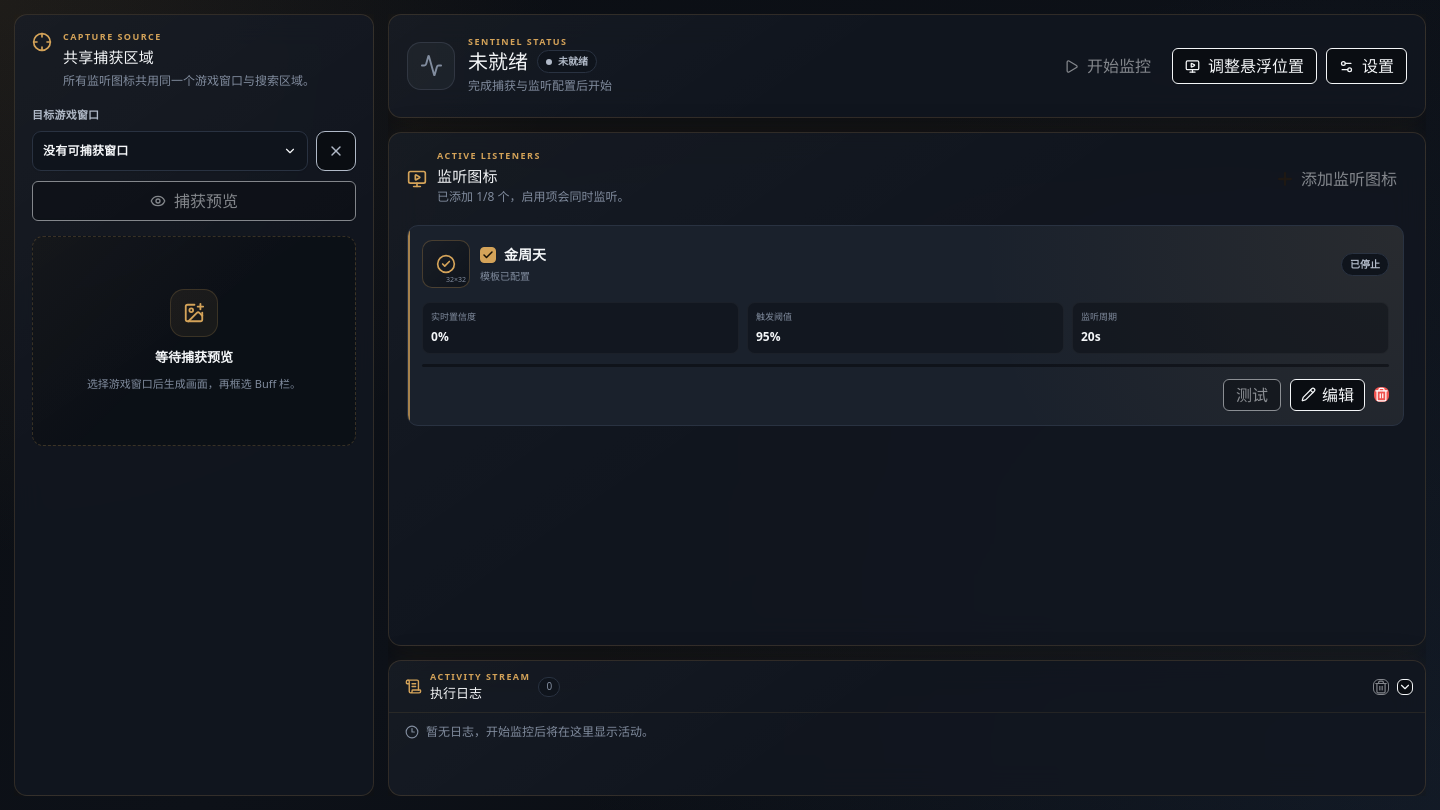
Test: BuffAssistantPage › keeps an unavailable saved audio output and shows the fallback
Click the button "设置". click: point(1366, 66)
box: x1=1326 y1=48 x2=1407 y2=84
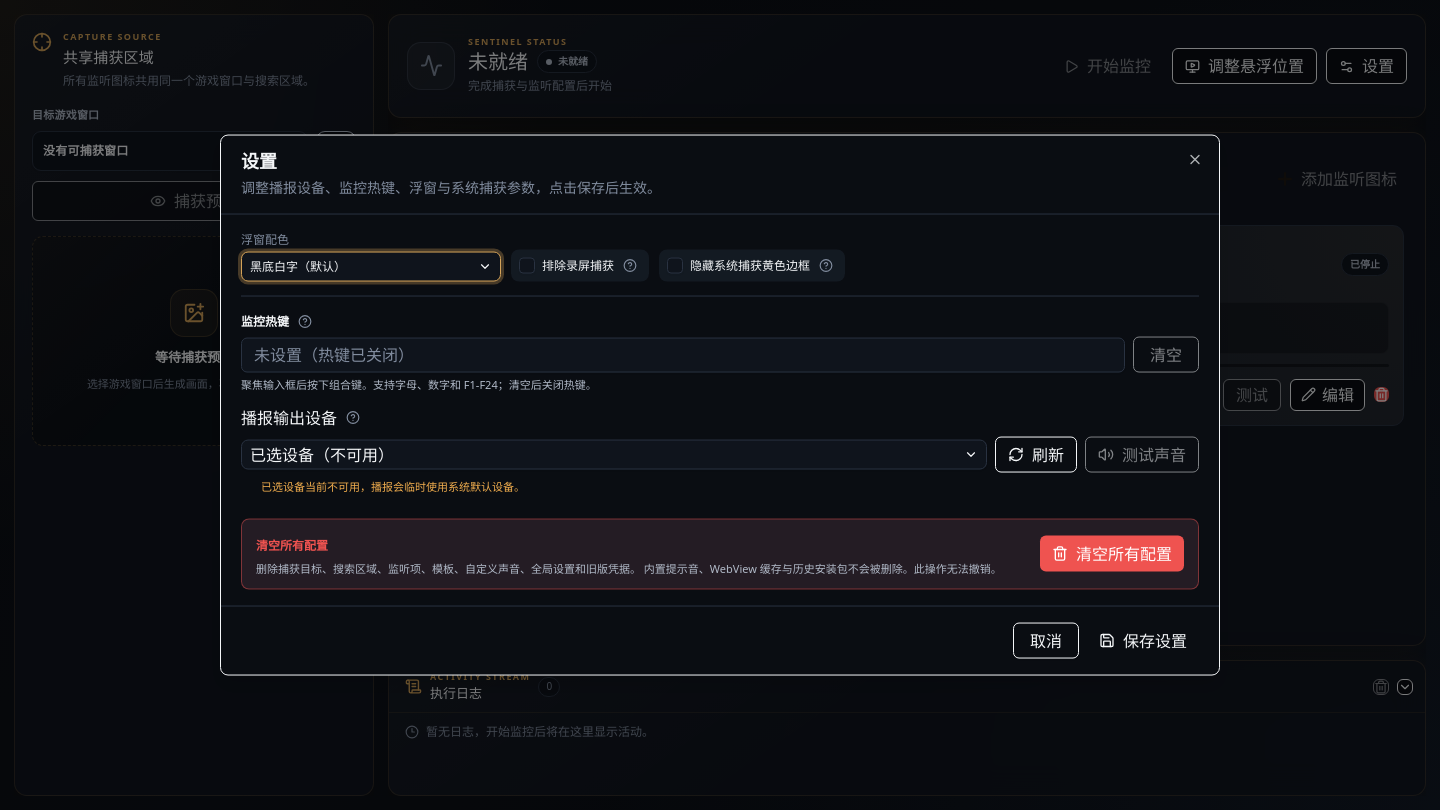
Expected: the text "已选设备当前不可用，播报会临时使用系统默认设备。" is shown, x1=261 y1=478 x2=525 y2=493
Expected: the button "测试声音" is disabled, x1=1085 y1=436 x2=1199 y2=472
